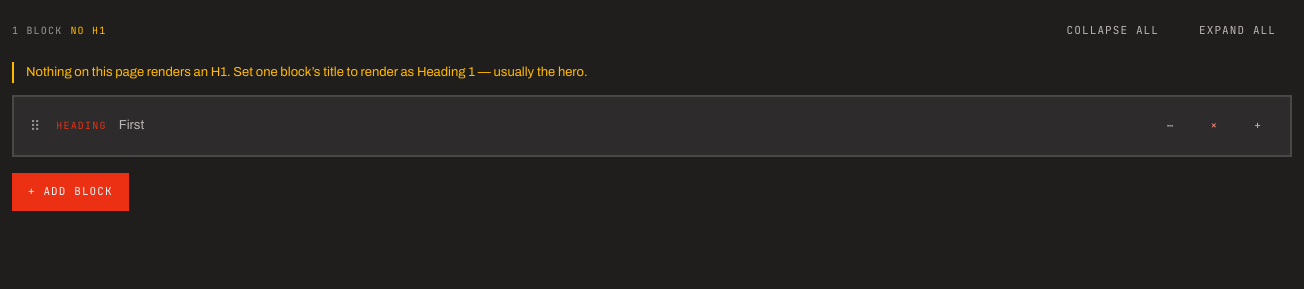
a synced saved block › offers "Save as a saved block" to a role that may make one
This screenshot has width=1304, height=289.
Step 1. Click the button named "More actions" → [1171, 126], box [1151,107,1191,145]
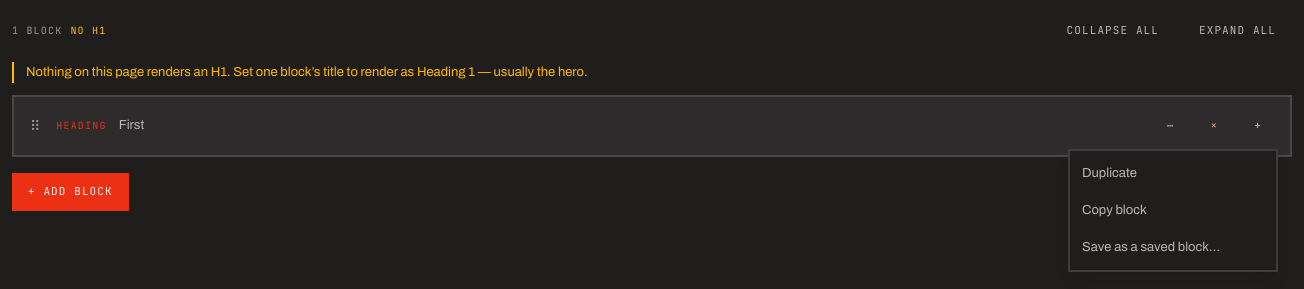
Now the menu item "Save as a saved block…" is shown, box [1070,229,1276,266]
